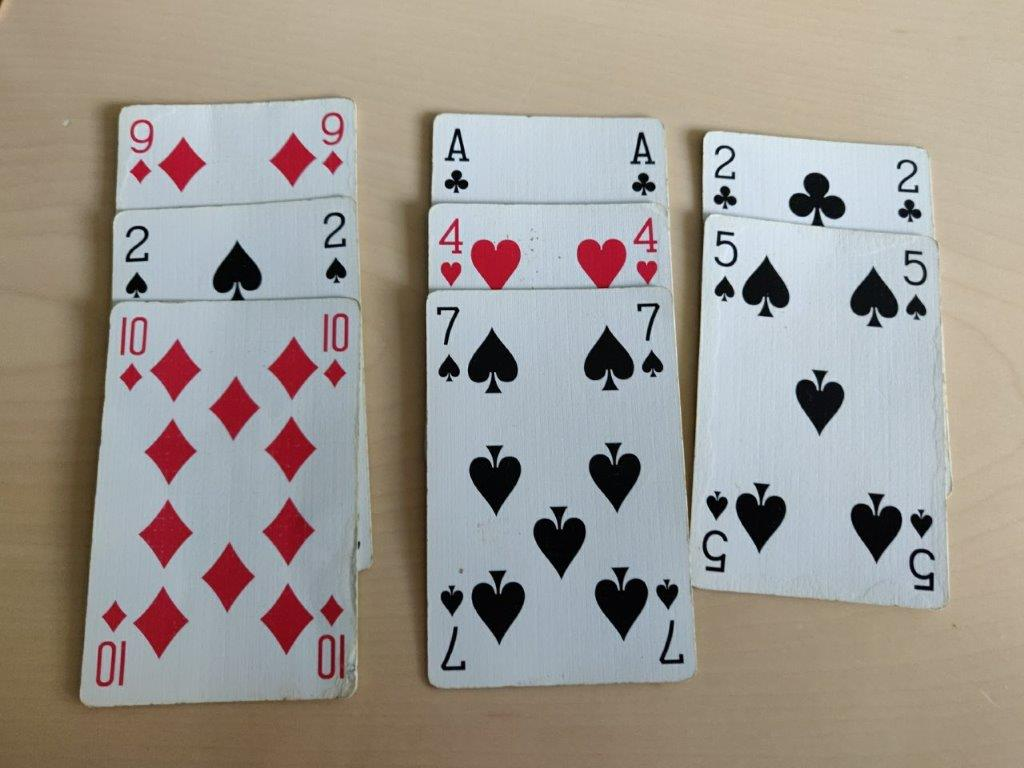10D: (112, 310, 150, 392), (315, 307, 353, 389)
2C: (708, 141, 742, 211), (891, 156, 925, 226)
2S: (120, 220, 154, 302), (319, 206, 353, 288)
4H: (628, 211, 664, 286), (435, 214, 468, 287)
5S: (708, 226, 738, 304), (899, 244, 929, 322)
7S: (431, 302, 464, 387), (633, 298, 666, 383)
9D: (125, 115, 157, 187), (318, 108, 350, 180)
AC: (440, 122, 473, 199), (627, 125, 660, 202)
